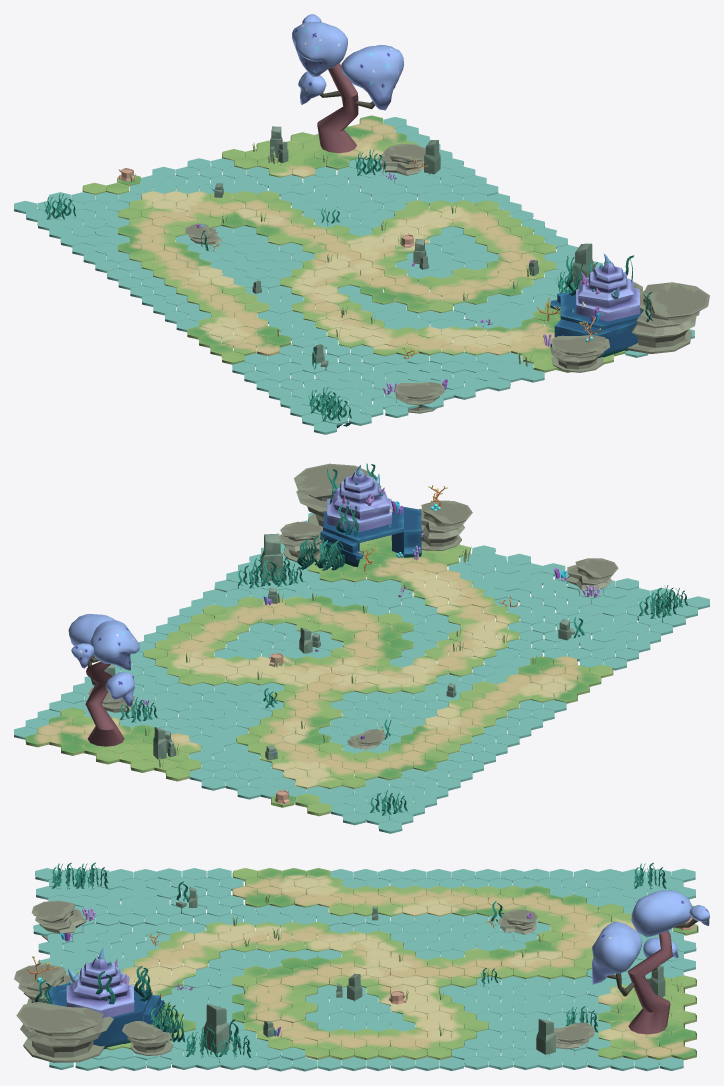
Rendered from Mapa.fbx.
3 views of the same model, one above another, from view 1: azimuth 30°, elevation 25°; view 2: azimuth 150°, elevation 25°; view 3: azimuth 270°, elevation 25° (orthographic). The views are drawn at different scales.
Parts seen in each view (by area): view 1: Agua, Pasto, Arbol001, CoralCentral, Roca008, Roca007, Roca, Roca005; view 2: Agua, Pasto, Arbol001, CoralCentral, Roca007, Roca008, Roca005, Roca009, Roca017; view 3: Agua, Pasto, Arbol001, CoralCentral, Roca008, Roca005, Roca007, Roca009, Roca017, Roca, Roca003, Roca016 (+2 smaller).
Boxes of the visible parts, x1=… form: Agua: x1=14, y1=117, x2=694, y2=434; Pasto: x1=82, y1=115, x2=625, y2=372; Arbol001: x1=292, y1=14, x2=403, y2=153; CoralCentral: x1=550, y1=262, x2=641, y2=357; Roca008: x1=627, y1=282, x2=709, y2=353; Roca007: x1=550, y1=335, x2=609, y2=372; Roca: x1=377, y1=143, x2=425, y2=175; Roca005: x1=395, y1=382, x2=444, y2=413; Agua: x1=14, y1=512, x2=709, y2=833; Pasto: x1=25, y1=535, x2=613, y2=816; Arbol001: x1=68, y1=613, x2=139, y2=746; CoralCentral: x1=320, y1=471, x2=421, y2=567; Roca007: x1=419, y1=500, x2=472, y2=550; Roca008: x1=294, y1=463, x2=381, y2=528; Roca005: x1=565, y1=558, x2=618, y2=595; Roca009: x1=279, y1=521, x2=322, y2=561; Roca017: x1=261, y1=533, x2=282, y2=581; Agua: x1=33, y1=868, x2=696, y2=1071; Pasto: x1=106, y1=868, x2=698, y2=1059; Arbol001: x1=592, y1=890, x2=709, y2=1034; CoralCentral: x1=47, y1=957, x2=163, y2=1049; Roca008: x1=16, y1=1002, x2=113, y2=1062; Roca005: x1=31, y1=900, x2=86, y2=940; Roca007: x1=14, y1=964, x2=71, y2=1003; Roca009: x1=122, y1=1021, x2=173, y2=1055; Roca017: x1=204, y1=1004, x2=229, y2=1052; Roca: x1=554, y1=1022, x2=594, y2=1055; Roca003: x1=497, y1=909, x2=538, y2=939; Roca016: x1=536, y1=1019, x2=555, y2=1055.
Size of the model in its own units: 3286 by 1079 by 4729.
16 materials, 16 textured.
